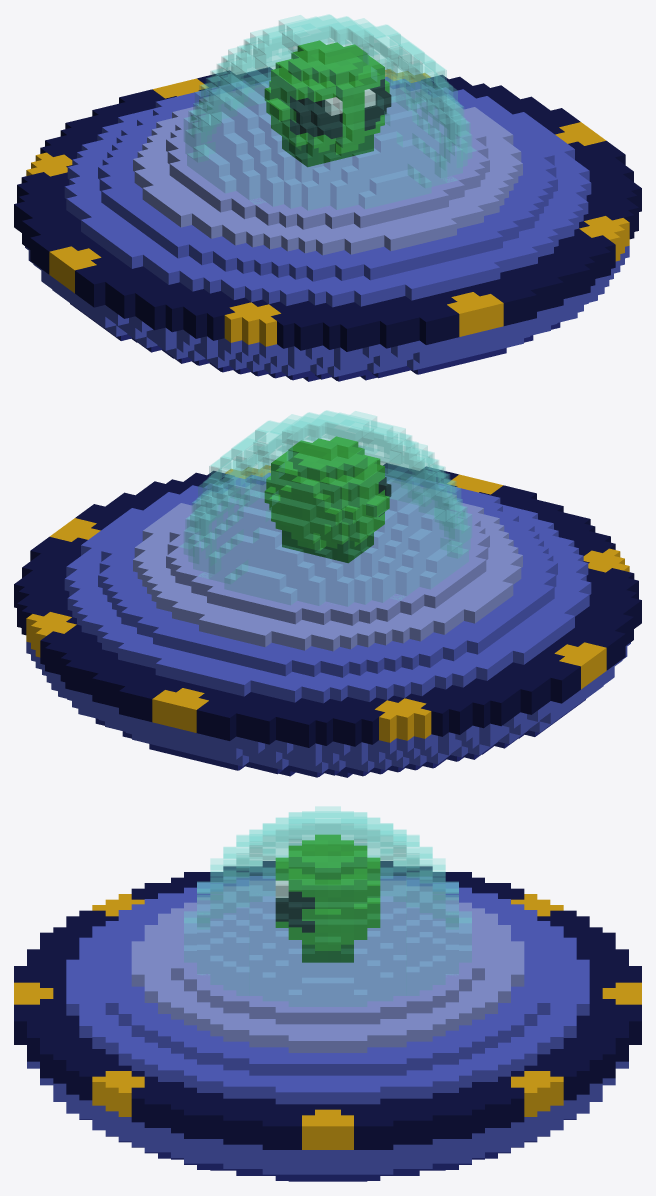
File: ufo_voxel.glb
The picture shows the model from 3 angles, top to bottom: view 1: azimuth 30°, elevation 25°; view 2: azimuth 150°, elevation 25°; view 3: azimuth 270°, elevation 25°; orthographic projection. The views are drawn at different scales.
Visible parts, largest first — view 1: Hull, Dome, Alien; view 2: Hull, Dome, Alien; view 3: Hull, Dome, Alien.
Boxes of the visible parts, x1,y1,x2,y2 form: Hull: (14, 67, 641, 381); Dome: (184, 14, 476, 210); Alien: (264, 40, 391, 167); Hull: (14, 463, 641, 777); Dome: (179, 410, 471, 606); Alien: (264, 436, 391, 563); Hull: (14, 861, 641, 1181); Dome: (184, 806, 471, 1006); Alien: (275, 834, 380, 962).
Size of the model in its own units: 1.92 by 0.92 by 1.92.
